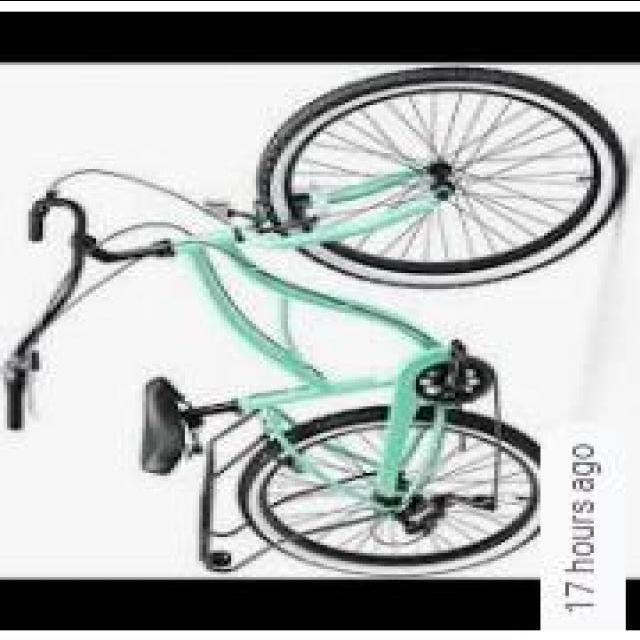bicycle: (19, 81, 627, 569)
